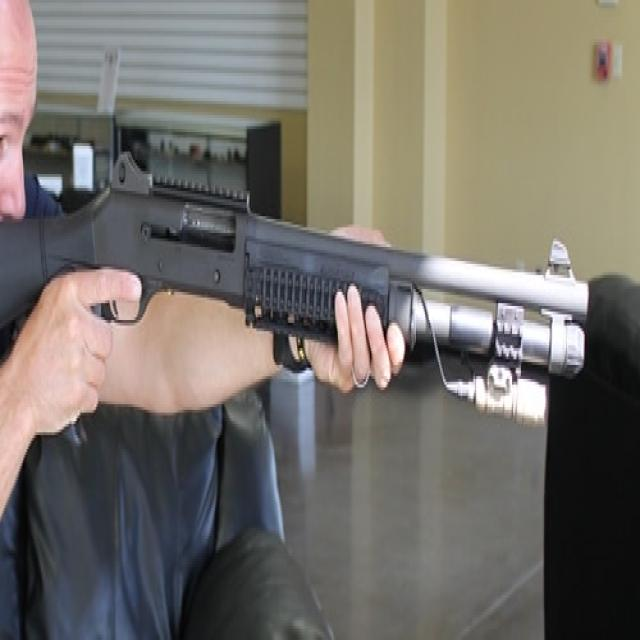ShotGun: (0, 152, 590, 427)
